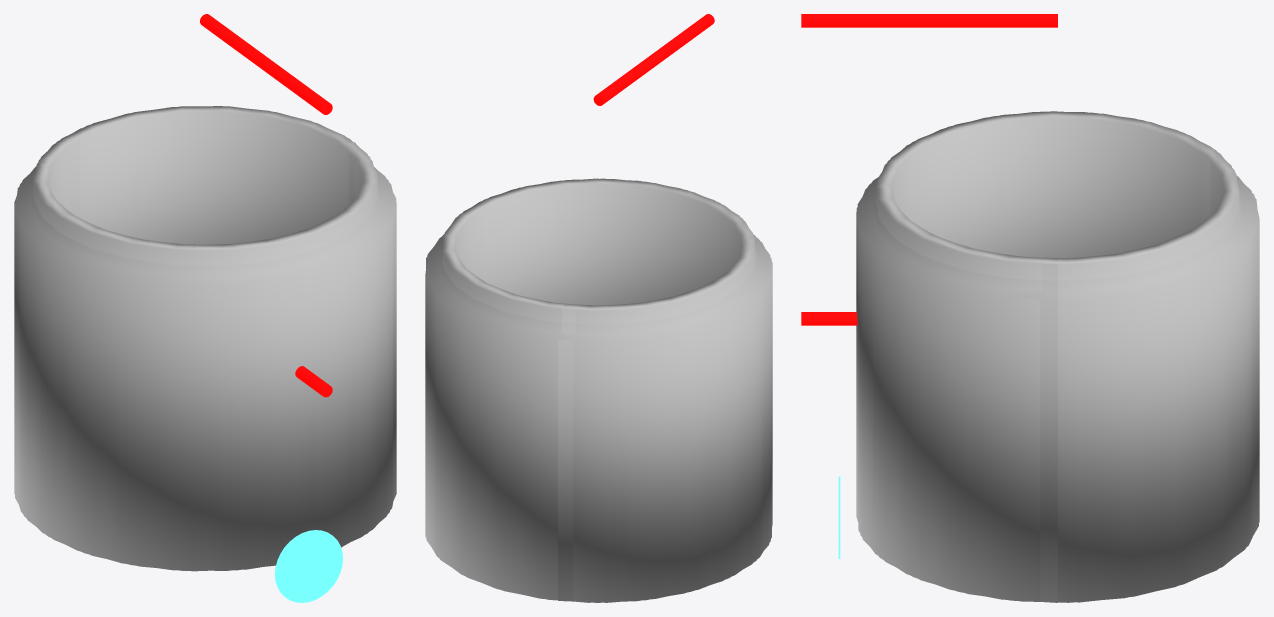
Rendered from LOT134c_1bd471d2.glb.
3 renders of one model, left to right at view 1: azimuth 30°, elevation 25°; view 2: azimuth 150°, elevation 25°; view 3: azimuth 270°, elevation 25°, orthographic. The views are drawn at different scales.
Visible parts, largest first — view 1: item, profile_circle_h0.800_a270.0, vector_h0.800_a270.0; view 2: item, vector_h0.800_a270.0; view 3: item, vector_h0.800_a270.0.
Part boxes in pixels (x1,y1,x2,y2): item: [14, 106, 396, 571]; profile_circle_h0.800_a270.0: [275, 530, 342, 602]; vector_h0.800_a270.0: [200, 14, 332, 397]; item: [425, 178, 772, 602]; vector_h0.800_a270.0: [593, 14, 714, 105]; item: [856, 111, 1259, 602]; vector_h0.800_a270.0: [801, 14, 1057, 325].
Size of the model in its own units: 1.47 by 2.18 by 1.67.
